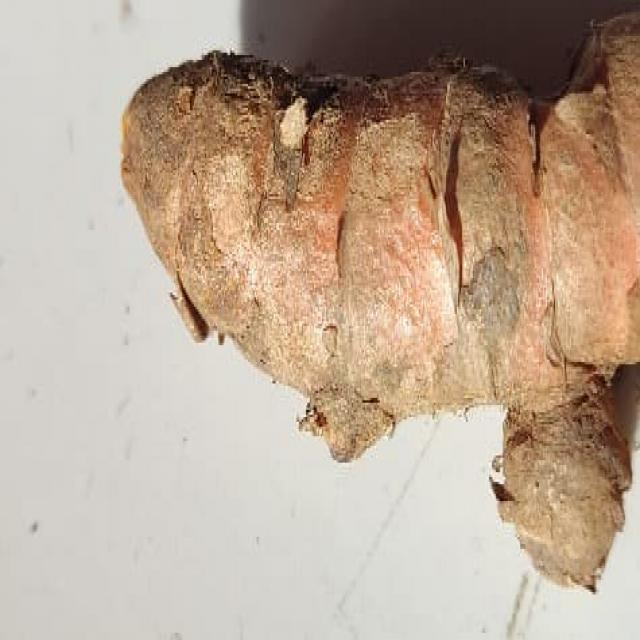ginger: (120, 51, 640, 520)
